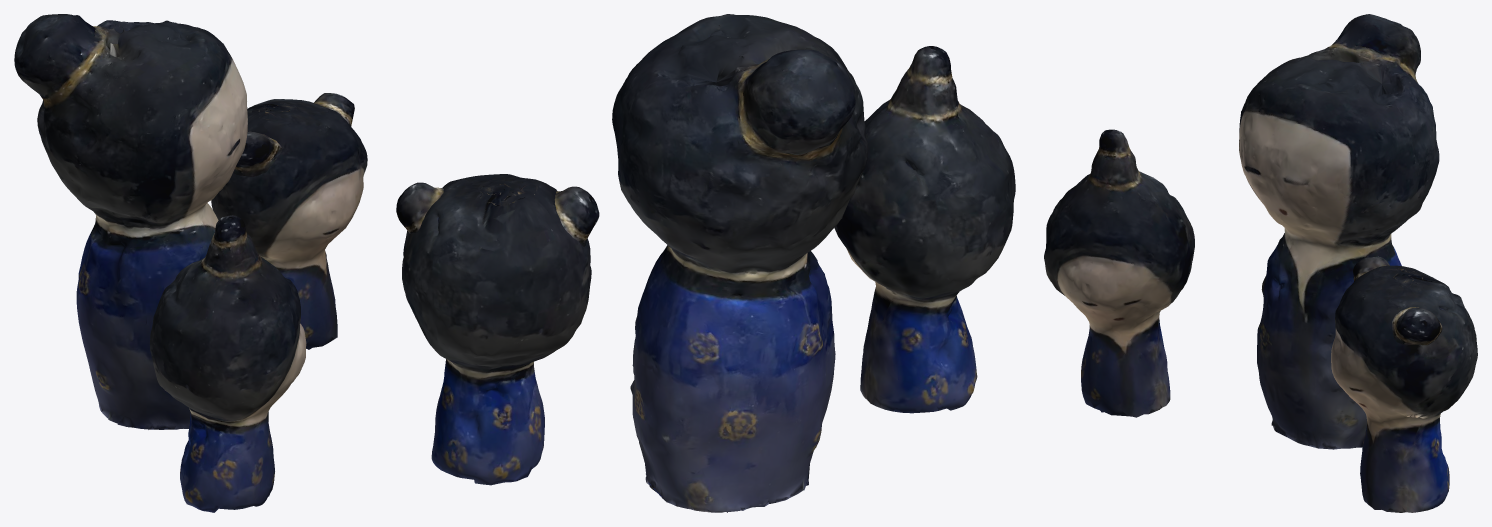
The picture shows the model from 3 angles, left to right: view 1: azimuth 30°, elevation 25°; view 2: azimuth 150°, elevation 25°; view 3: azimuth 270°, elevation 25°; orthographic projection. The views are drawn at different scales.
Visible parts, largest first — view 1: Mesh_0.012, Mesh_0.001, Mesh_0.002, Mesh_0.003, Mesh_0.005; view 2: Mesh_0.012, Mesh_0.001, Mesh_0.002, Mesh_0.003, Mesh_0.005; view 3: Mesh_0.012, Mesh_0.001, Mesh_0.002, Mesh_0.005.
Boxes of the visible parts, box(x1,y1,x2,y2) form: Mesh_0.012: box(14, 14, 247, 429); Mesh_0.001: box(149, 215, 306, 512); Mesh_0.002: box(211, 99, 367, 349); Mesh_0.003: box(233, 131, 282, 176); Mesh_0.005: box(314, 93, 354, 126); Mesh_0.012: box(612, 14, 868, 512); Mesh_0.001: box(834, 46, 1015, 413); Mesh_0.002: box(402, 174, 591, 485); Mesh_0.003: box(554, 186, 599, 246); Mesh_0.005: box(396, 182, 443, 233); Mesh_0.012: box(1239, 14, 1439, 449); Mesh_0.001: box(1044, 129, 1194, 417); Mesh_0.002: box(1331, 265, 1477, 512); Mesh_0.005: box(1392, 307, 1442, 345).
Size of the model in its own units: 1.51 by 1.6 by 1.71.
Materials: 31 (30 with a texture image).
